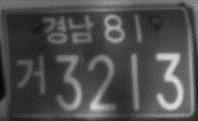1: (127, 51, 145, 109), (129, 11, 145, 44)
2: (85, 53, 118, 113)
3: (151, 49, 185, 111), (53, 51, 84, 110)
8: (102, 13, 127, 43)
거: (14, 53, 47, 96)
경남_O: (40, 14, 95, 44)
